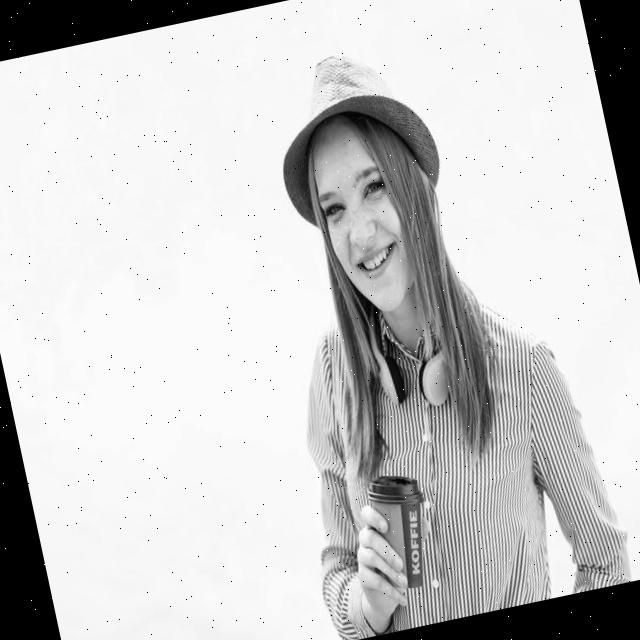Happiness: (296, 112, 426, 328)
